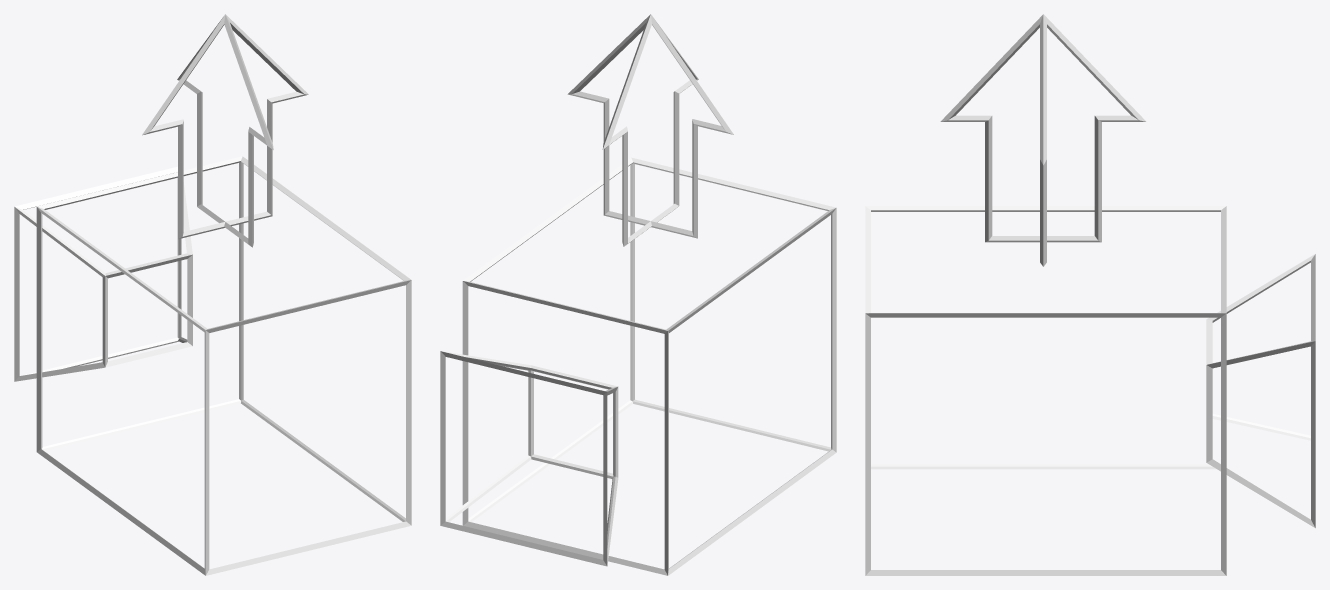
Rendered from Camera.glb.
3 renders of one model, left to right at view 1: azimuth 30°, elevation 25°; view 2: azimuth 150°, elevation 25°; view 3: azimuth 270°, elevation 25°, orthographic. The views are drawn at different scales.
Parts seen in each view (by area): view 1: Cube; view 2: Cube; view 3: Cube.
Boxes of the visible parts, <box> form: Cube: <box>14,14,411,575</box>; Cube: <box>440,14,836,575</box>; Cube: <box>865,14,1315,575</box>.
Size of the model in its own units: 0.7115 by 1.57 by 1.26.
1 material, 1 textured.
